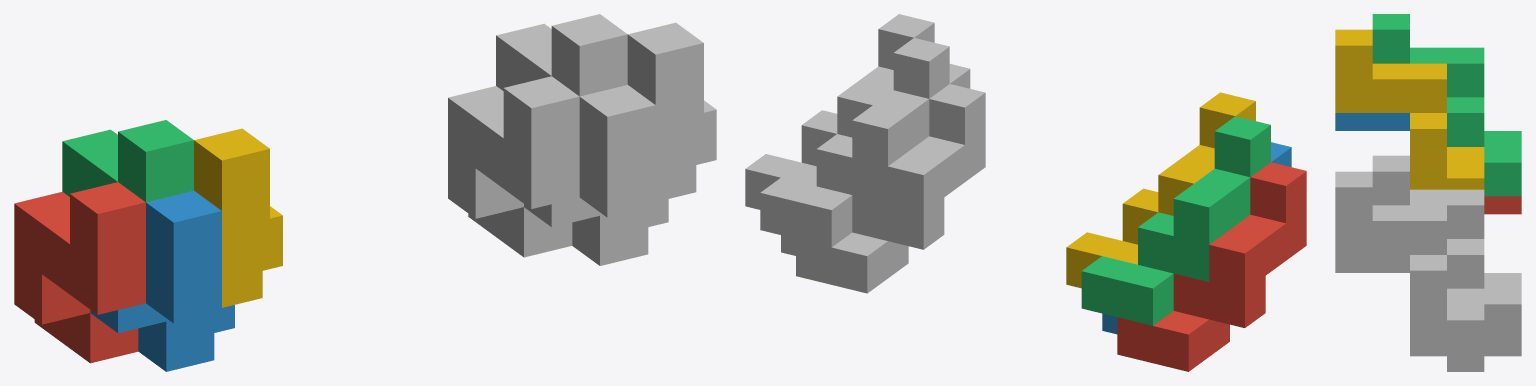
The model's file is tiling.obj.
3 views of the same model, side by side, from view 1: azimuth 30°, elevation 25°; view 2: azimuth 150°, elevation 25°; view 3: azimuth 270°, elevation 25° (orthographic). The views are drawn at different scales.
Visible parts, largest first — view 1: copy_1_domain_5, copy_1_domain_1, copy_1_domain_6, copy_1_domain_2, copy_1_domain_8, copy_1_domain_4, copy_1_domain_3, copy_1_domain_7; view 2: copy_1_domain_1, copy_1_domain_5, copy_1_domain_7, copy_1_domain_3, copy_1_domain_8, copy_1_domain_4, copy_1_domain_6, copy_1_domain_2; view 3: copy_1_domain_8, copy_1_domain_4, copy_1_domain_7, copy_1_domain_3, copy_1_domain_6, copy_1_domain_2, copy_1_domain_1, copy_1_domain_5.
Boxes of the visible parts, <box> form: copy_1_domain_5: <box>448,76,579,257</box>; copy_1_domain_1: <box>14,182,145,363</box>; copy_1_domain_6: <box>524,85,668,265</box>; copy_1_domain_2: <box>90,190,234,371</box>; copy_1_domain_8: <box>627,22,716,201</box>; copy_1_domain_4: <box>194,128,282,307</box>; copy_1_domain_3: <box>62,120,193,202</box>; copy_1_domain_7: <box>496,14,627,96</box>; copy_1_domain_1: <box>1117,162,1306,371</box>; copy_1_domain_5: <box>796,84,985,293</box>; copy_1_domain_7: <box>760,38,949,247</box>; copy_1_domain_3: <box>1081,116,1270,325</box>; copy_1_domain_8: <box>745,14,934,209</box>; copy_1_domain_4: <box>1066,92,1255,288</box>; copy_1_domain_6: <box>781,64,970,255</box>; copy_1_domain_2: <box>1102,142,1291,334</box>; copy_1_domain_8: <box>1335,171,1484,353</box>; copy_1_domain_4: <box>1335,29,1484,189</box>; copy_1_domain_7: <box>1372,155,1521,338</box>; copy_1_domain_3: <box>1372,14,1521,196</box>; copy_1_domain_6: <box>1335,255,1484,371</box>; copy_1_domain_2: <box>1335,113,1409,130</box>; copy_1_domain_1: <box>1484,196,1521,214</box>; copy_1_domain_5: <box>1484,338,1521,356</box>.
Size of the model in its own units: 14 by 5 by 5.
